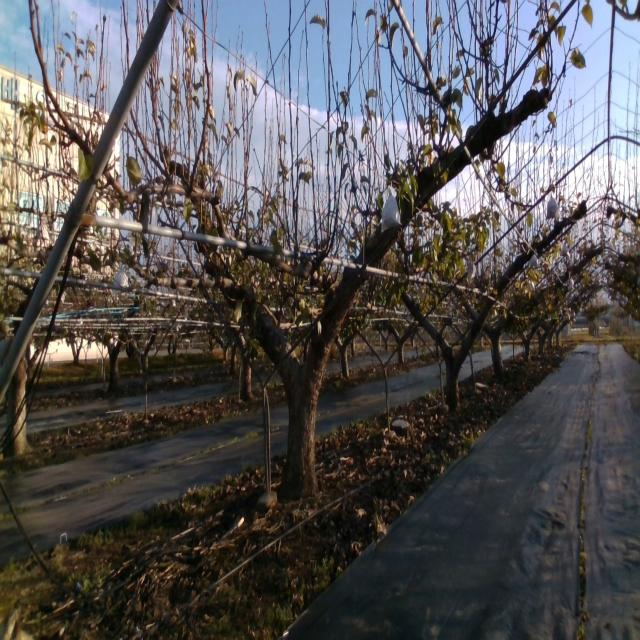pearbags: (380, 186, 402, 234), (544, 191, 560, 220)
